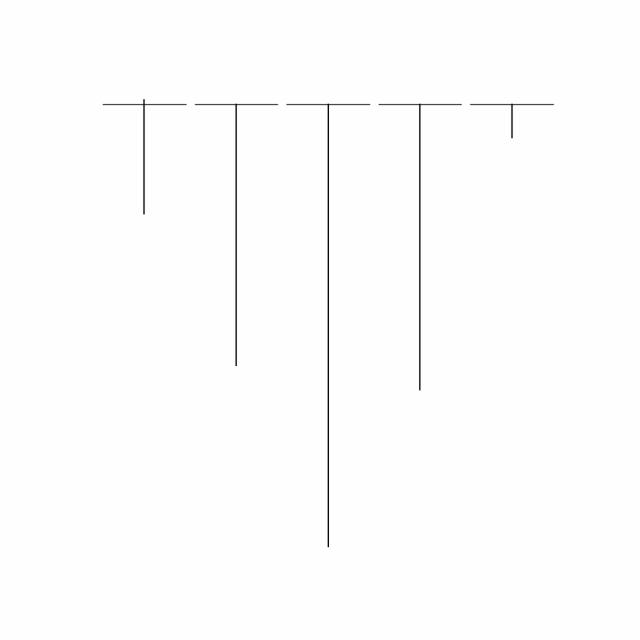Dragonfly Doji: (373, 100, 467, 394)
